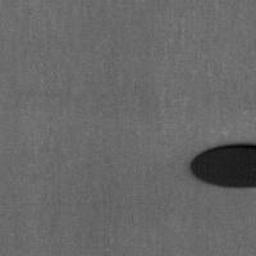Punching: (191, 145, 256, 187)
